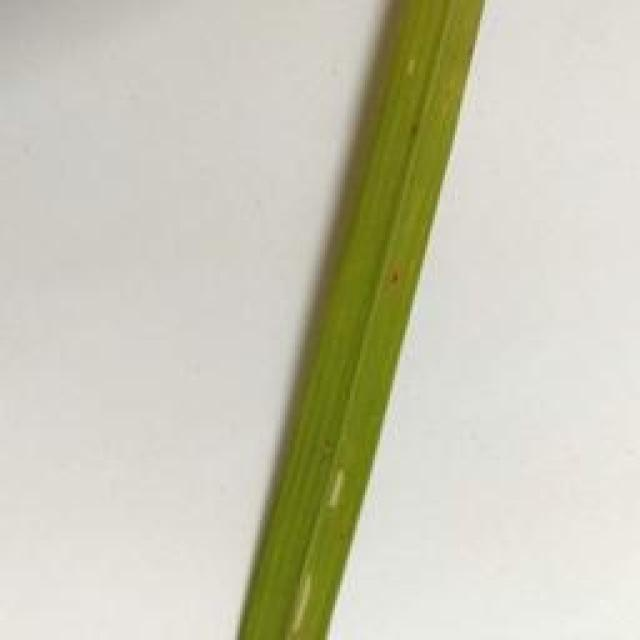Bacterial_Blight: (283, 546, 325, 640), (323, 444, 349, 517)
Brown_Spot: (382, 257, 404, 291), (406, 123, 430, 147)
